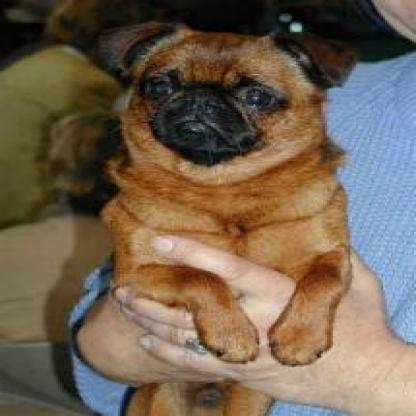Brabancon_griffon: (66, 3, 348, 410)
